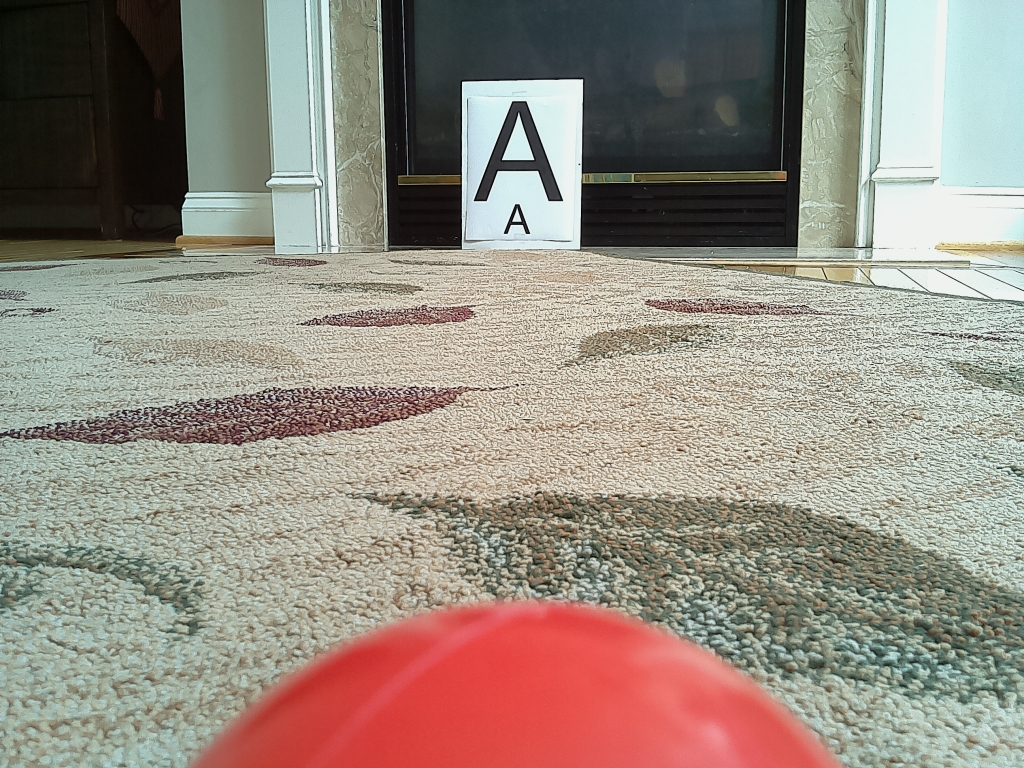letter: (473, 102, 564, 202)
